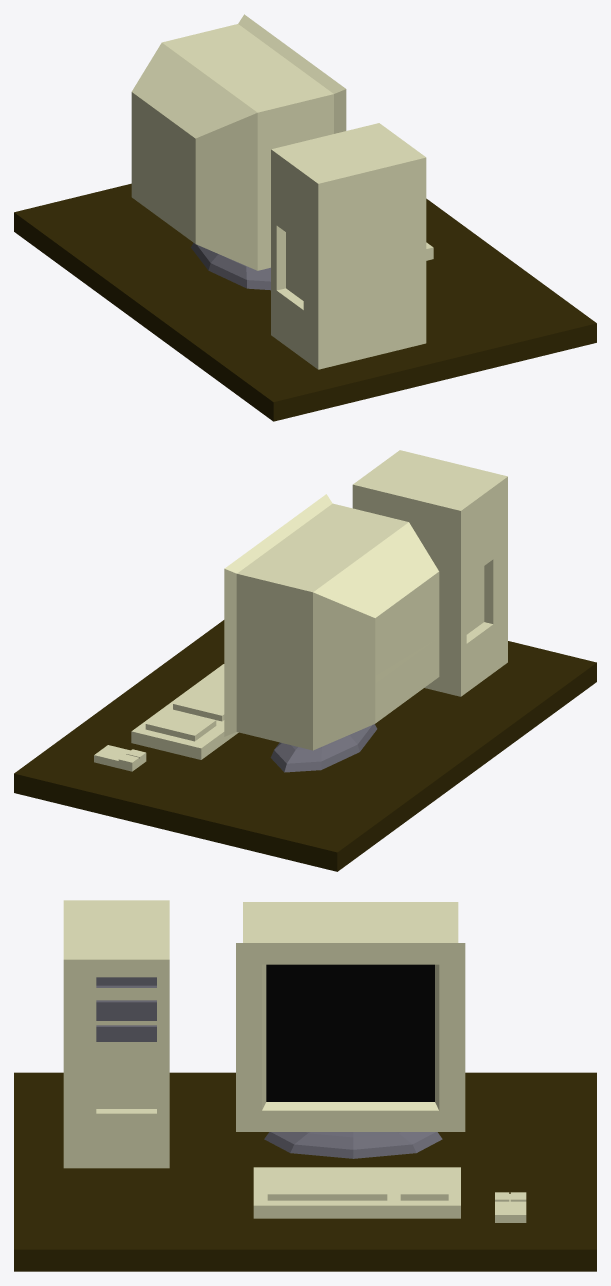
Rendered from Old School Computer.fbx.
The picture shows the model from 3 angles, top to bottom: view 1: azimuth 30°, elevation 25°; view 2: azimuth 150°, elevation 25°; view 3: azimuth 270°, elevation 25°; orthographic projection. The views are drawn at different scales.
Parts seen in each view (by area): view 1: OldSchoolComputer; view 2: OldSchoolComputer; view 3: OldSchoolComputer.
Part boxes in pixels (x1,y1,x2,y2): OldSchoolComputer: (14,14,596,421); OldSchoolComputer: (14,450,596,871); OldSchoolComputer: (14,900,596,1271).
Size of the model in its own units: 214 by 138 by 297.
